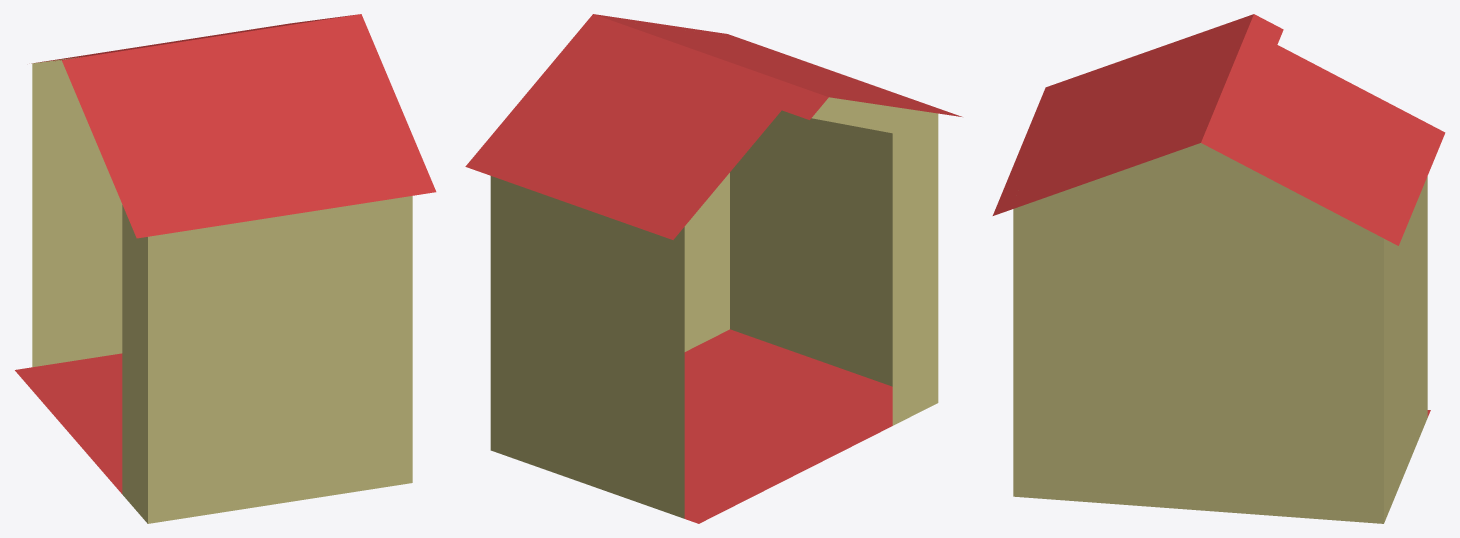
3 views of the same model, side by side, from view 1: azimuth 30°, elevation 25°; view 2: azimuth 150°, elevation 25°; view 3: azimuth 270°, elevation 25° (orthographic). The views are drawn at different scales.
Bounding box in the file's own units: 10.39 × 12.53 × 11.45.
